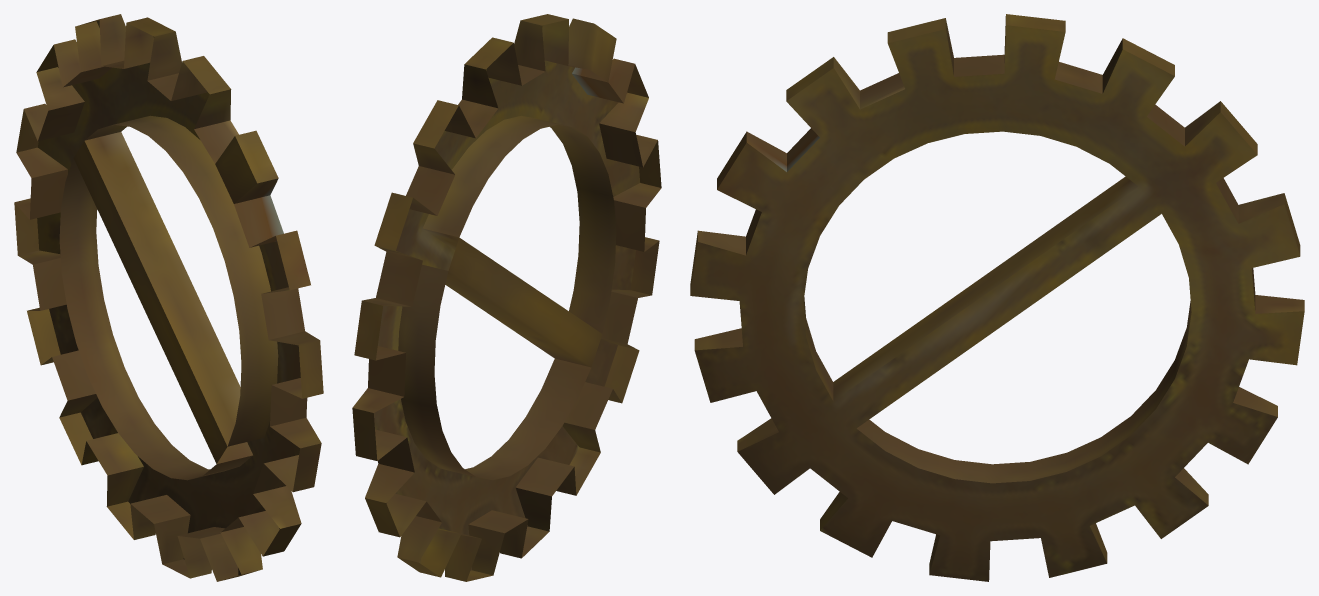
Rendered from EngranajeGr02_T.obj.
3 renders of one model, left to right at view 1: azimuth 30°, elevation 25°; view 2: azimuth 150°, elevation 25°; view 3: azimuth 270°, elevation 25°, orthographic. The views are drawn at different scales.
Parts seen in each view (by area): view 1: EngranajesGr02_ORO01.003; view 2: EngranajesGr02_ORO01.003; view 3: EngranajesGr02_ORO01.003.
Boxes of the visible parts, left/top/right/bottom form: EngranajesGr02_ORO01.003: left=14, top=14, right=323, bottom=581; EngranajesGr02_ORO01.003: left=352, top=14, right=661, bottom=581; EngranajesGr02_ORO01.003: left=690, top=14, right=1304, bottom=581.
Size of the model in its own units: 0.4267 by 5.79 by 5.79.
